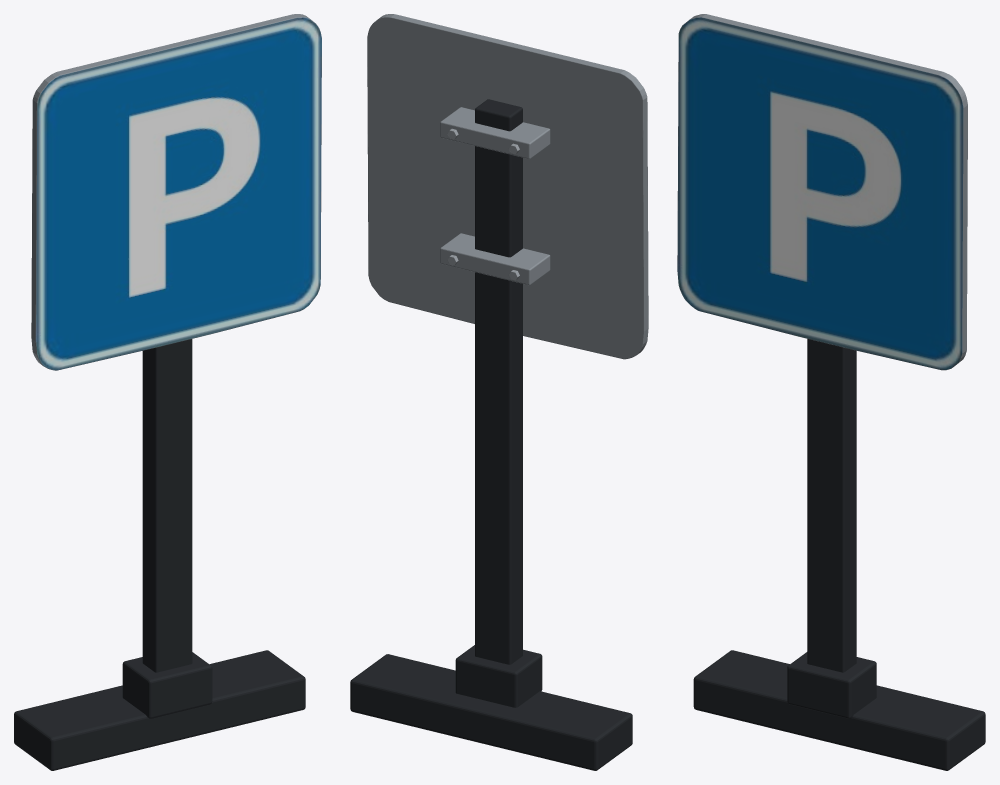
The picture shows the model from 3 angles, left to right: view 1: azimuth 30°, elevation 25°; view 2: azimuth 150°, elevation 25°; view 3: azimuth 330°, elevation 25°; orthographic projection. The views are drawn at different scales.
Parts seen in each view (by area): view 1: g3, g0, g2; view 2: g2, g0; view 3: g3, g0, g2.
Boxes of the visible parts, x1,y1,x2,y2 form: g3: (35, 17, 321, 370); g0: (14, 339, 305, 770); g2: (31, 14, 321, 370); g2: (367, 14, 648, 359); g0: (350, 99, 632, 770); g3: (677, 17, 963, 369); g0: (693, 339, 985, 770); g2: (677, 14, 967, 370).
Bounding box in the file's own units: 0.1076 × 0.0265 × 0.2496.
Materials: 4 (1 with a texture image).
